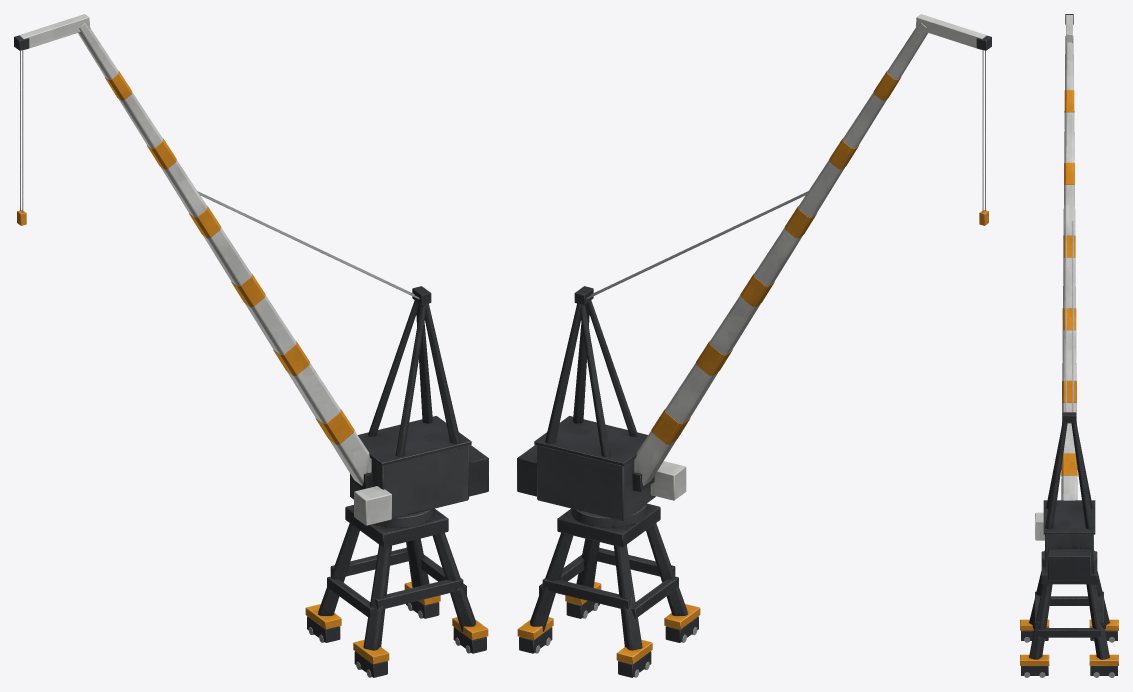
The model's file is crane-A.glb.
3 views of the same model, side by side, from view 1: azimuth 30°, elevation 25°; view 2: azimuth 150°, elevation 25°; view 3: azimuth 270°, elevation 25° (orthographic). The views are drawn at different scales.
Parts seen in each view (by area): view 1: crane-A; view 2: crane-A; view 3: crane-A.
Part boxes in pixels (x1,y1,x2,y2): crane-A: (14, 14, 488, 677); crane-A: (517, 14, 991, 677); crane-A: (1020, 14, 1118, 677).
Size of the model in its own units: 55.5 by 81.37 by 14.19.
1 material, 1 textured.
